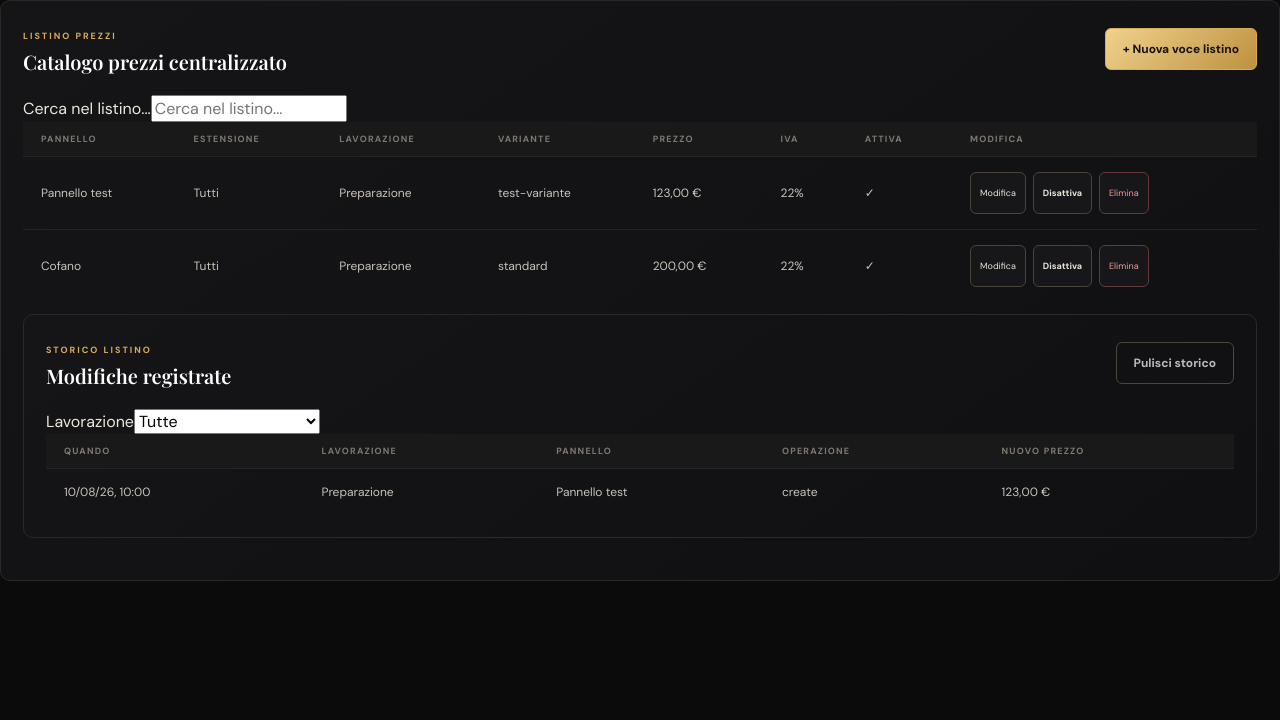
Test: PriceListPage save draft flow › mostra lo storico listino nella pagina Listino prezzi e permette ricerca test nel catalogo
Expected: the text "STORICO LISTINO" is shown, [46,344,152,356]
Type "test" into the field with placeholder "Cerca nel listino...". click: [249, 108]
box: [151,95,347,122]
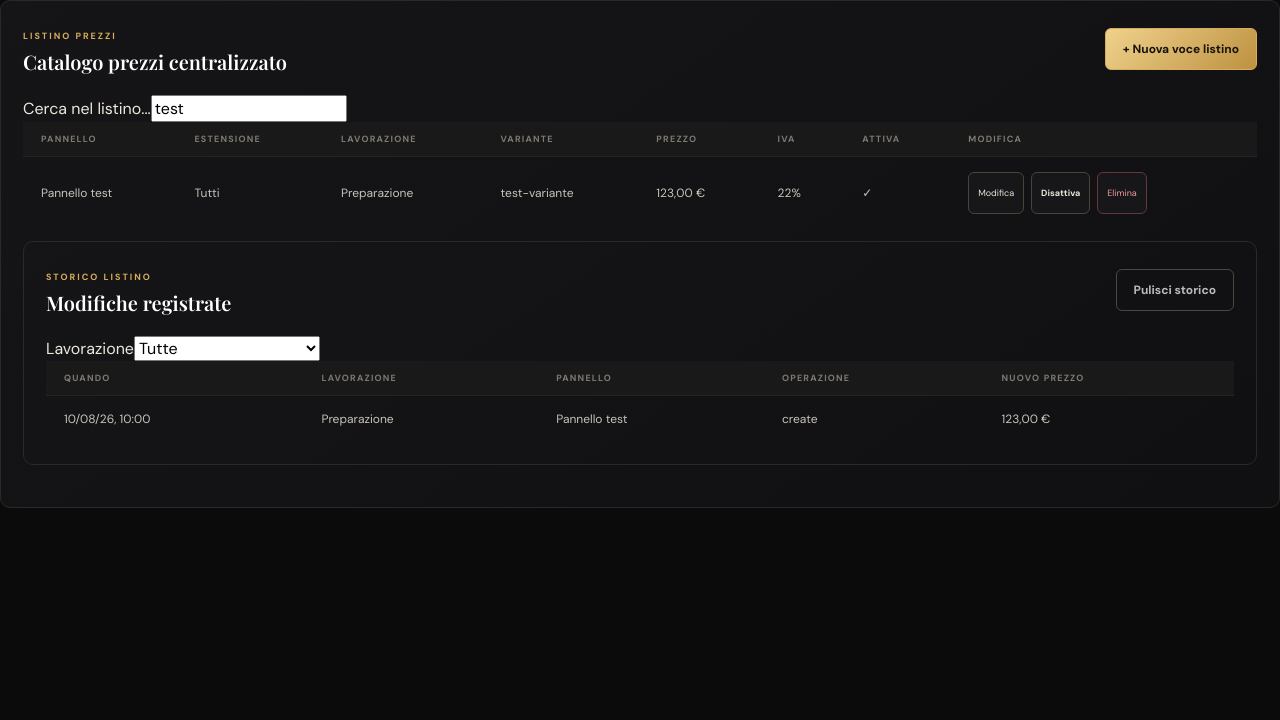
Expected: the text "Pannello test" next to "Tutti" is shown, [41,185,112,201]
Result: the text "Cofano" is gone
